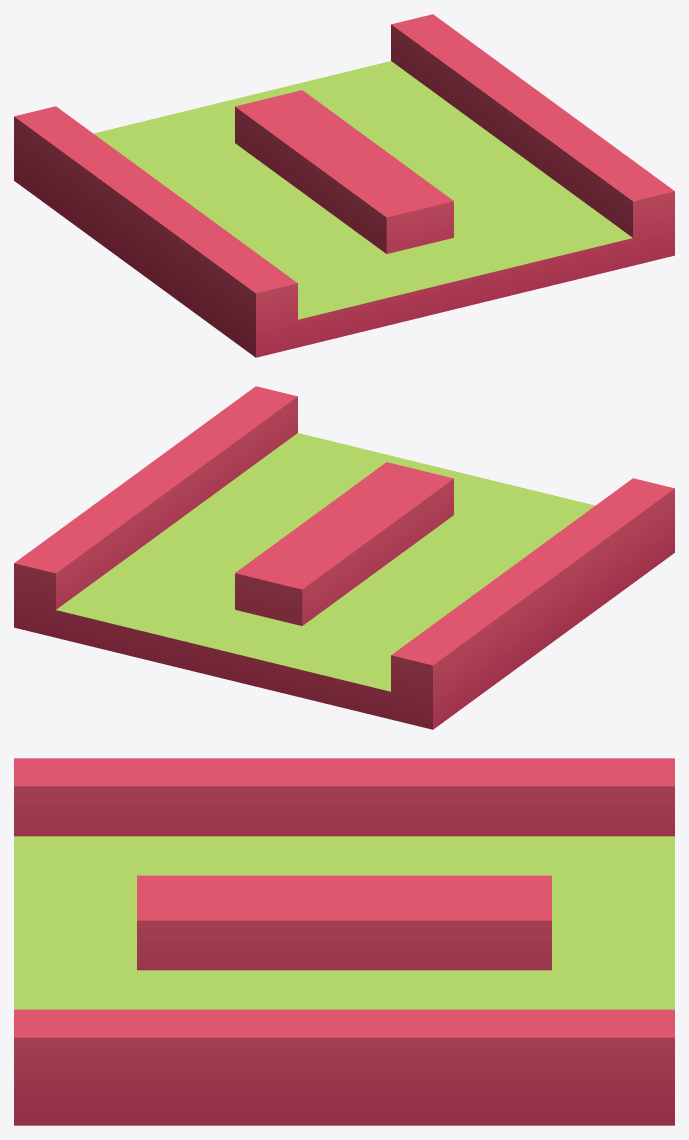
The model's file is obstacle-block.gltf.
The picture shows the model from 3 angles, top to bottom: view 1: azimuth 30°, elevation 25°; view 2: azimuth 150°, elevation 25°; view 3: azimuth 270°, elevation 25°; orthographic projection. The views are drawn at different scales.
Visible parts, largest first — view 1: obstacle-block; view 2: obstacle-block; view 3: obstacle-block.
Part boxes in pixels (left/top/right/bottom): obstacle-block: left=14, top=14, right=674, bottom=357; obstacle-block: left=14, top=386, right=674, bottom=729; obstacle-block: left=14, top=758, right=674, bottom=1125.
Bounding box in the file's own units: 0.9999 × 0.1467 × 0.9999.
Materials: 1 (1 with a texture image).
